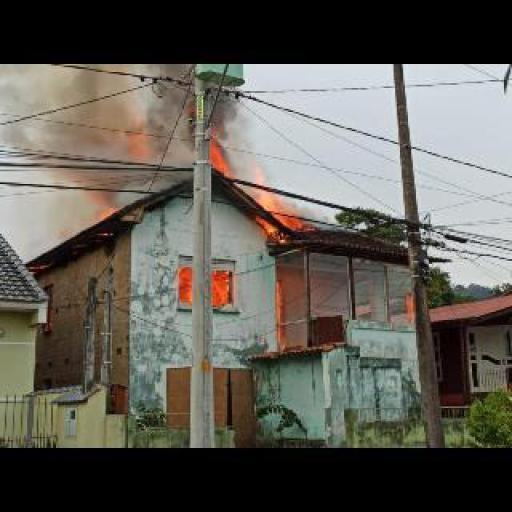smoke: (28, 72, 258, 194), (246, 171, 322, 245), (210, 269, 234, 304), (211, 138, 232, 178), (275, 280, 285, 346), (179, 266, 194, 304), (98, 204, 120, 218)
